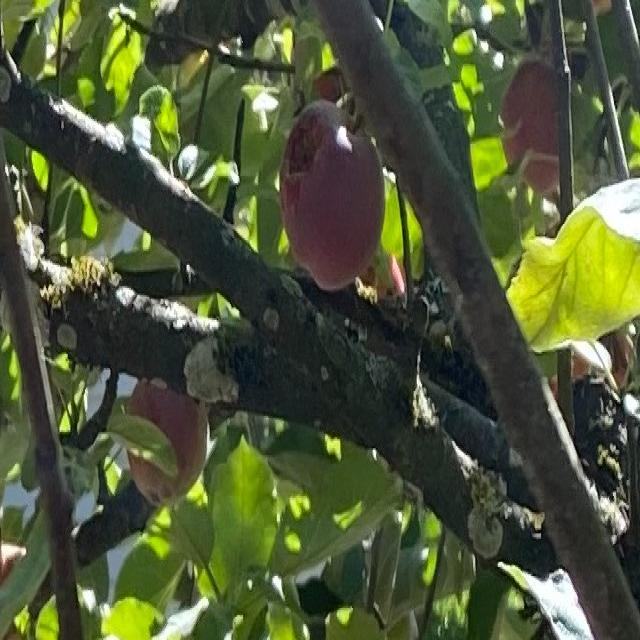100-_ripeness: (280, 105, 383, 286), (128, 377, 210, 499), (504, 62, 568, 192)
